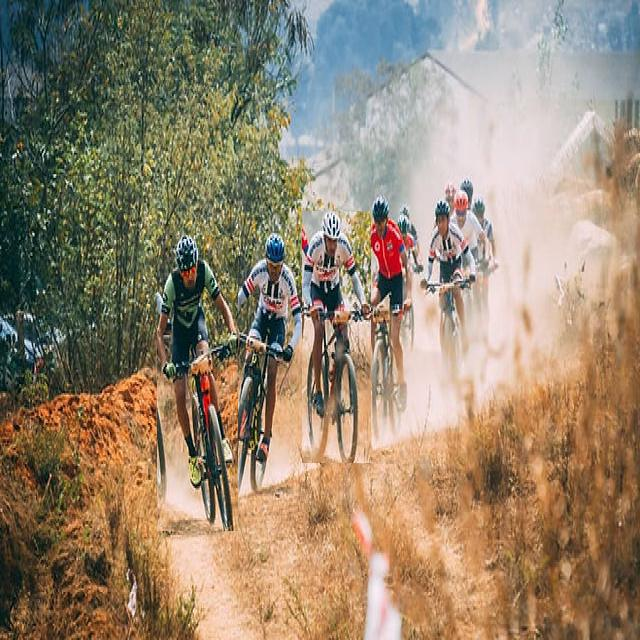bicycle: (158, 235, 238, 531), (230, 233, 302, 497), (302, 211, 371, 463)
